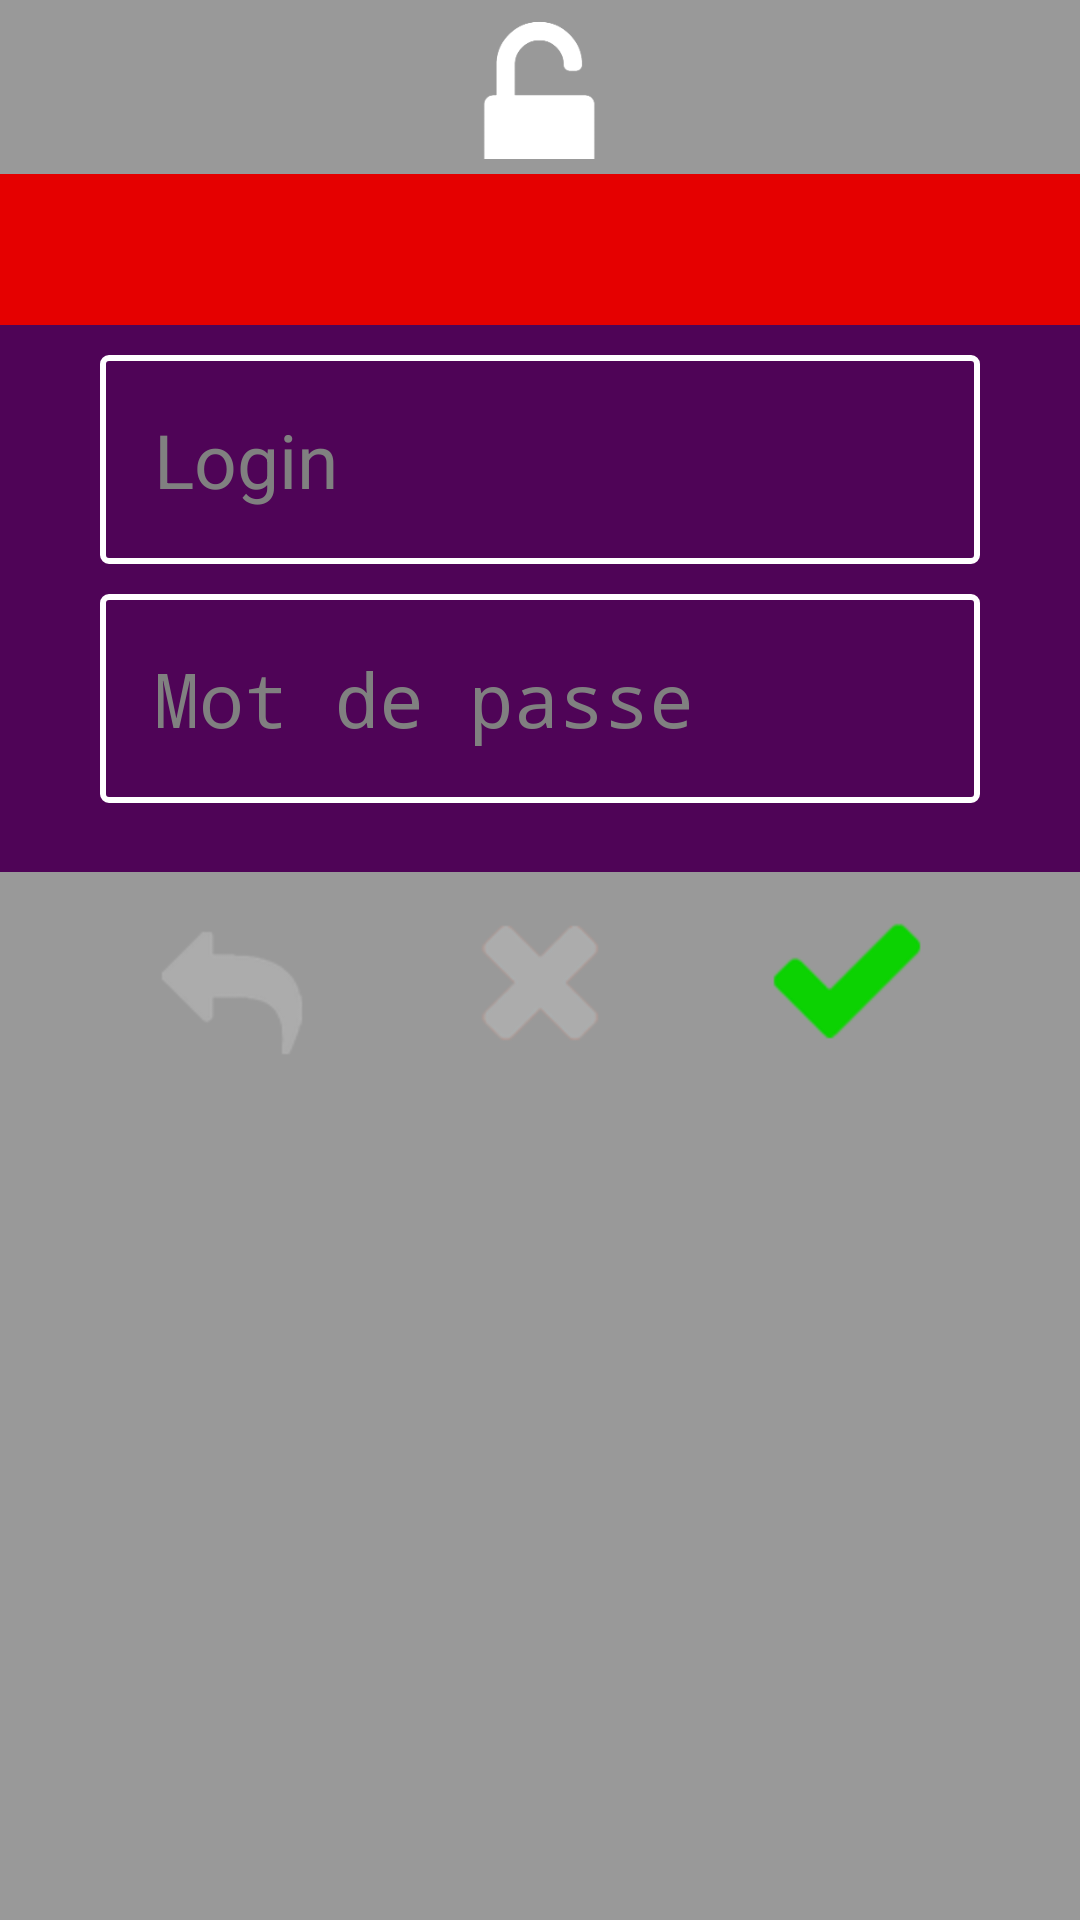

Named icons in this screenshot (1080 × 1920) and their bounding boxes, (x1, y1, x2, y2):
unlock: (484, 22, 595, 159)
